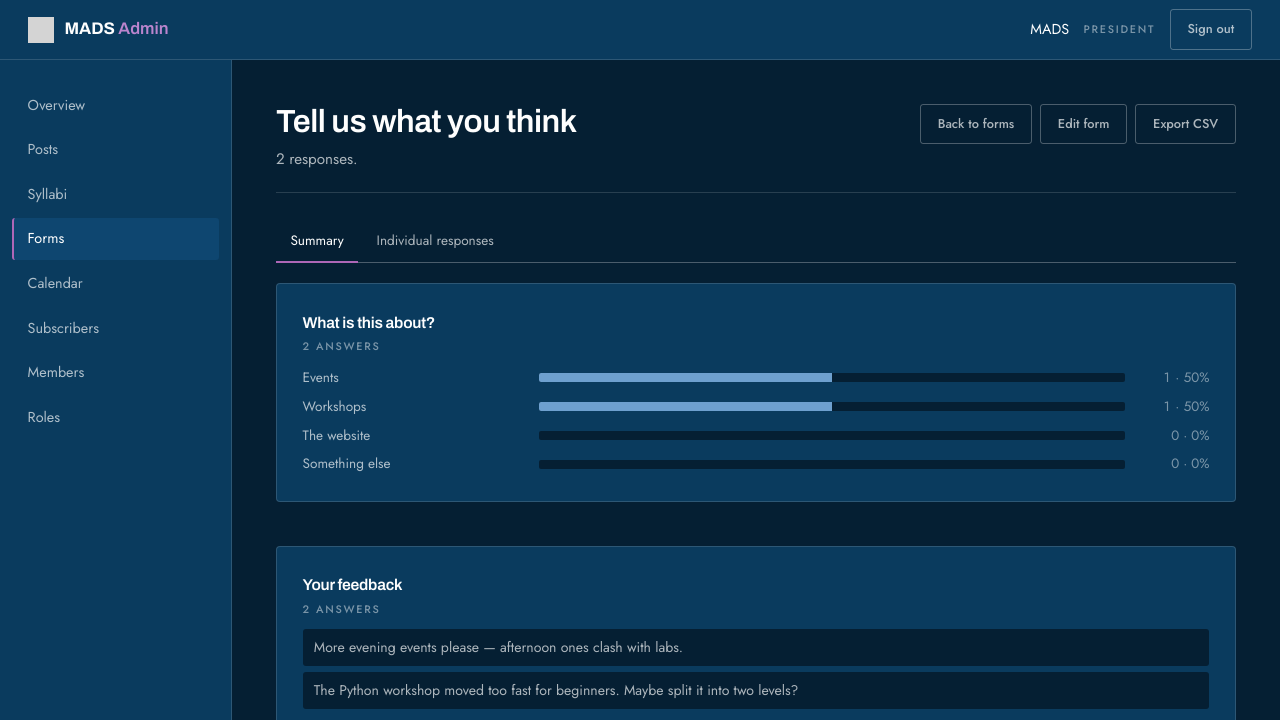
Submissions › shows a placeholder where an optional field was left blank
Click the tab "Individual responses": {"x": 435, "y": 242} [362,220,508,263]
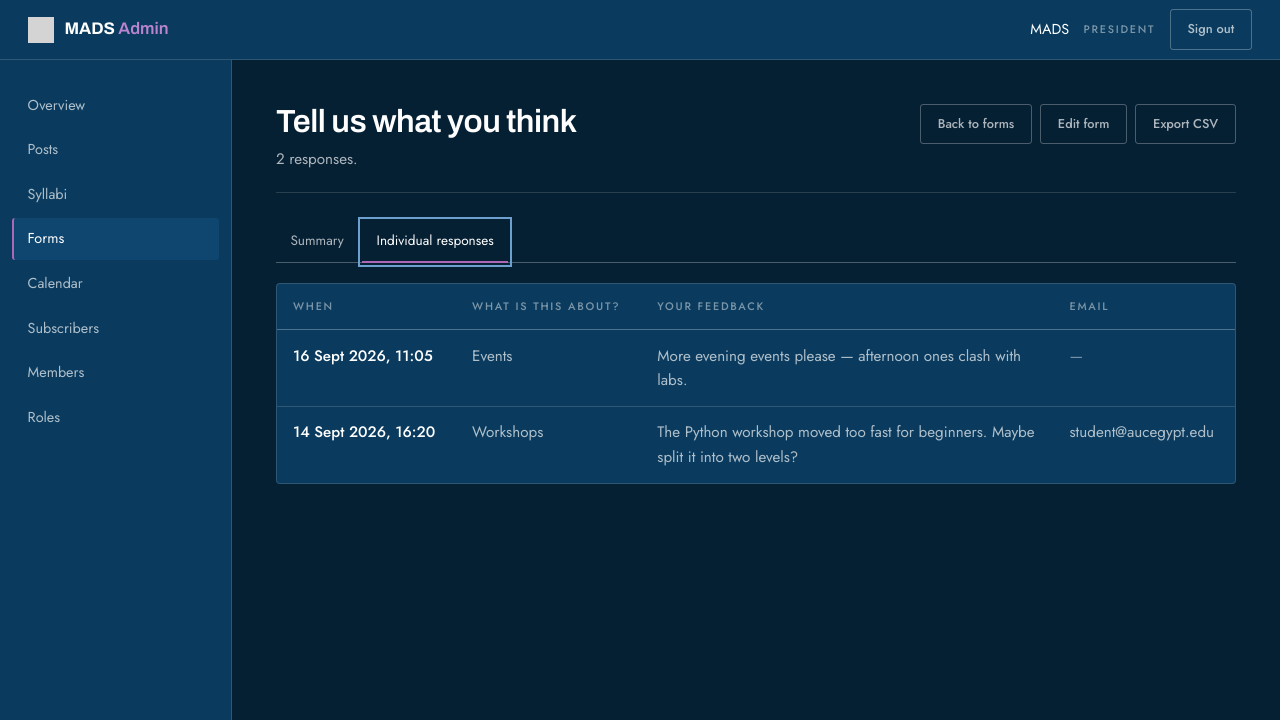
Result: the text "—" is shown at [1070,345,1083,367]
